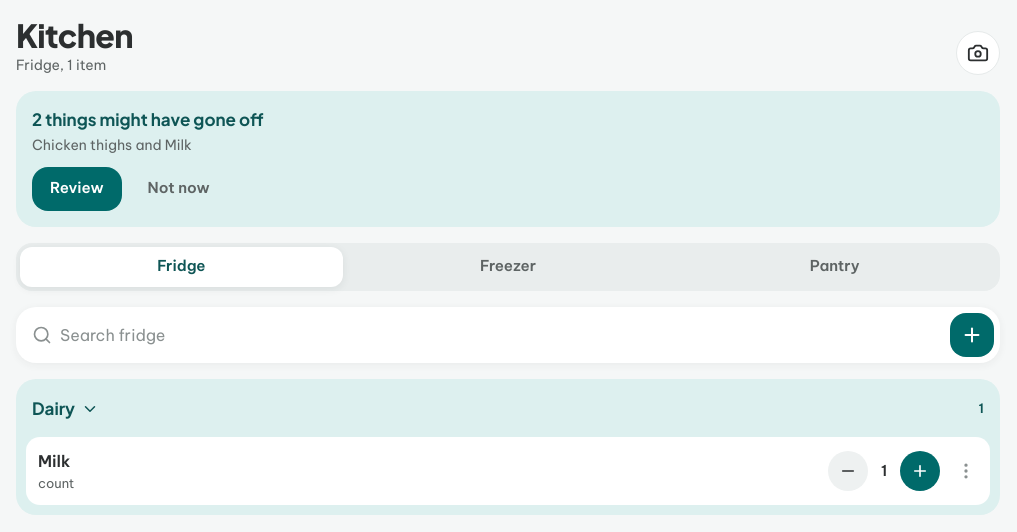
Test case: freshness check › Not now hides the card for today and leaves a quiet button
This screenshot has width=1017, height=532.
What coordinates should you click on to do the following:
click the button "Not now"
I would click on:
 (179, 189)
Its box is [130,167,228,211].
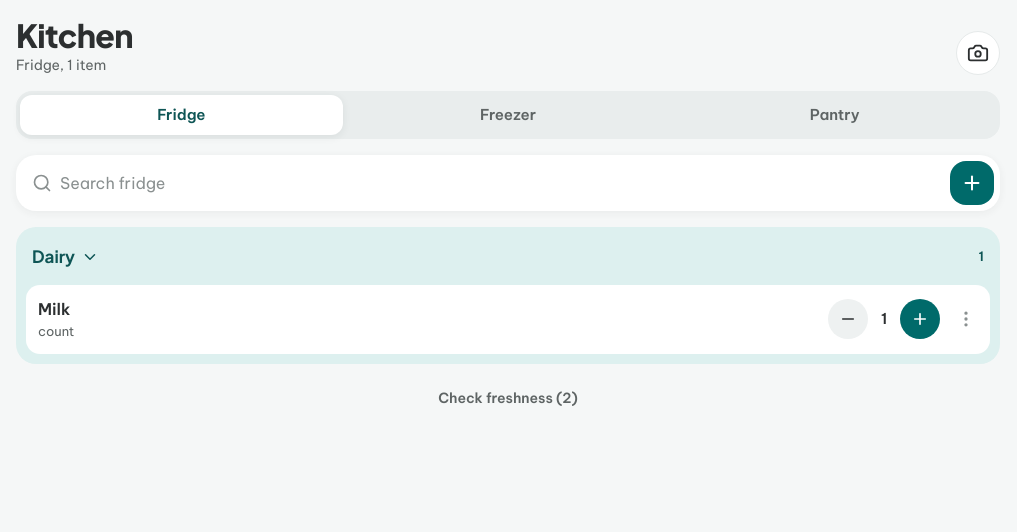
Now the button "Check freshness (2)" is shown, box [424,380,592,416]
